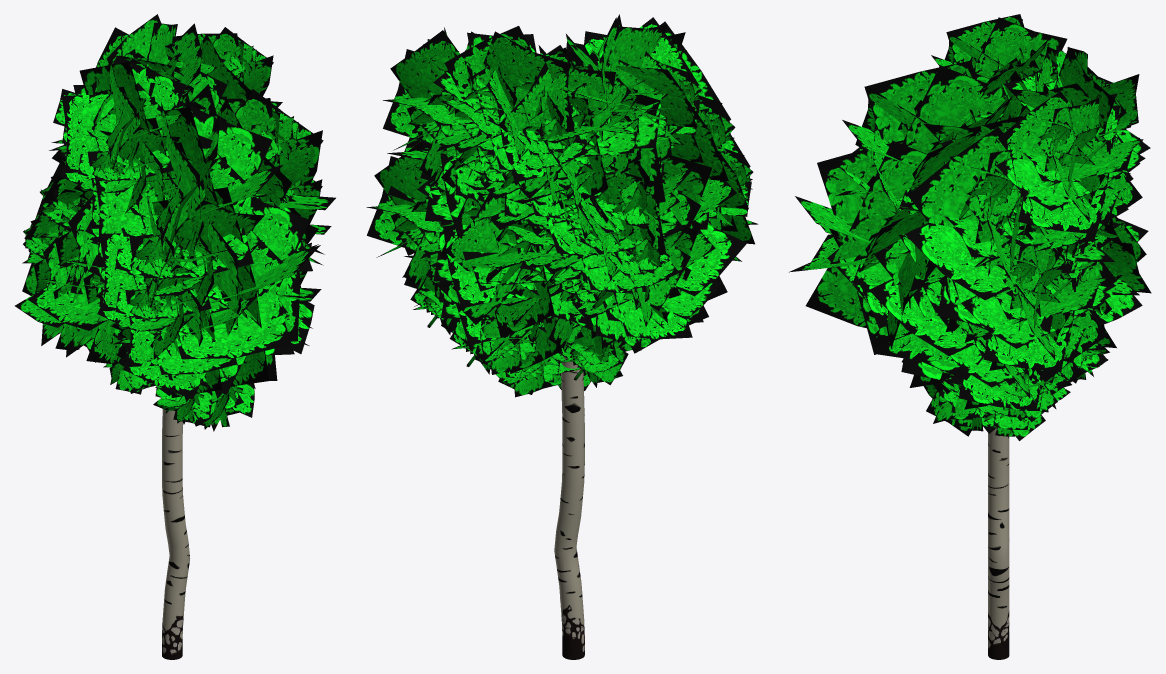
Rendered from SkinnyWoodTree2.fbx.
3 renders of one model, left to right at view 1: azimuth 30°, elevation 25°; view 2: azimuth 150°, elevation 25°; view 3: azimuth 270°, elevation 25°, orthographic. The views are drawn at different scales.
Visible parts, largest first — view 1: Object057; view 2: Object057; view 3: Object057.
Boxes of the visible parts, <box> form: Object057: <box>15,14,335,659</box>; Object057: <box>366,14,758,659</box>; Object057: <box>789,14,1151,659</box>.
Bounding box in the file's own units: 327 × 629 × 336.
Materials: 2 (2 with a texture image).
